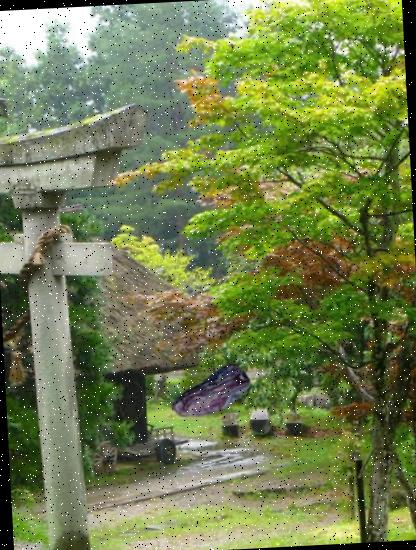Dates: (169, 352, 254, 438)
